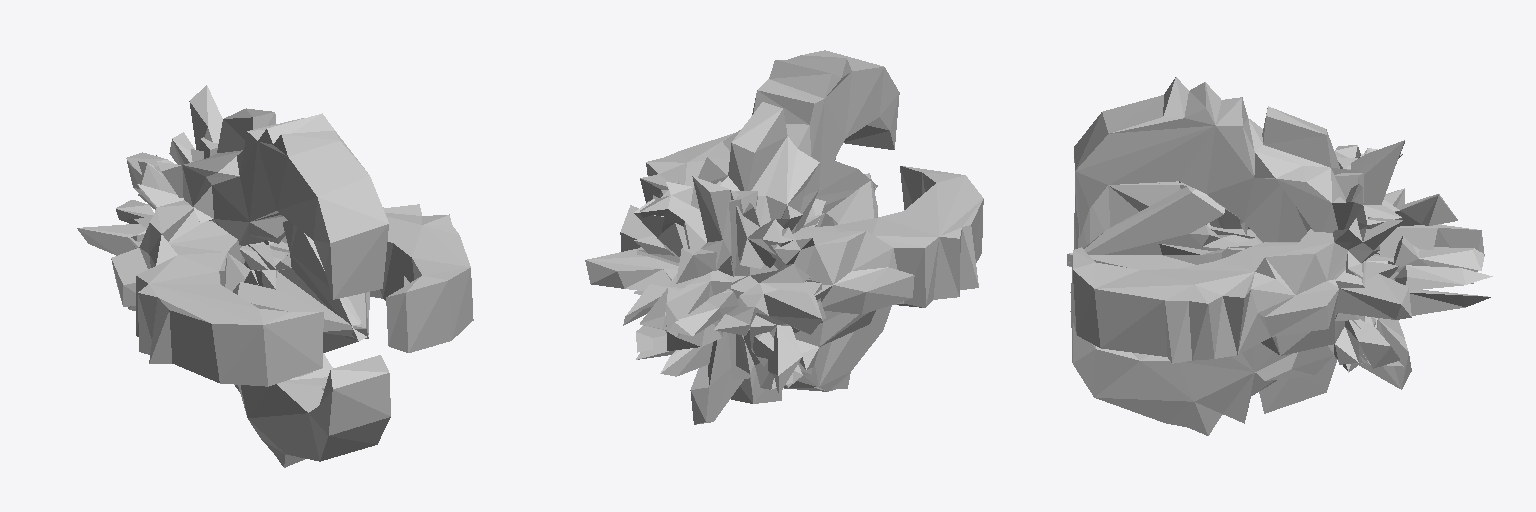
3 renders of one model, left to right at view 1: azimuth 30°, elevation 25°; view 2: azimuth 150°, elevation 25°; view 3: azimuth 270°, elevation 25°, orthographic.
Visible parts, largest first — view 1: ai_model; view 2: ai_model; view 3: ai_model.
Part boxes in pixels (bbox=[...]): ai_model: bbox=[77, 85, 473, 467]; ai_model: bbox=[585, 50, 983, 424]; ai_model: bbox=[1067, 77, 1492, 435].
Bounding box in the file's own units: 0.624 × 0.624 × 0.7231.